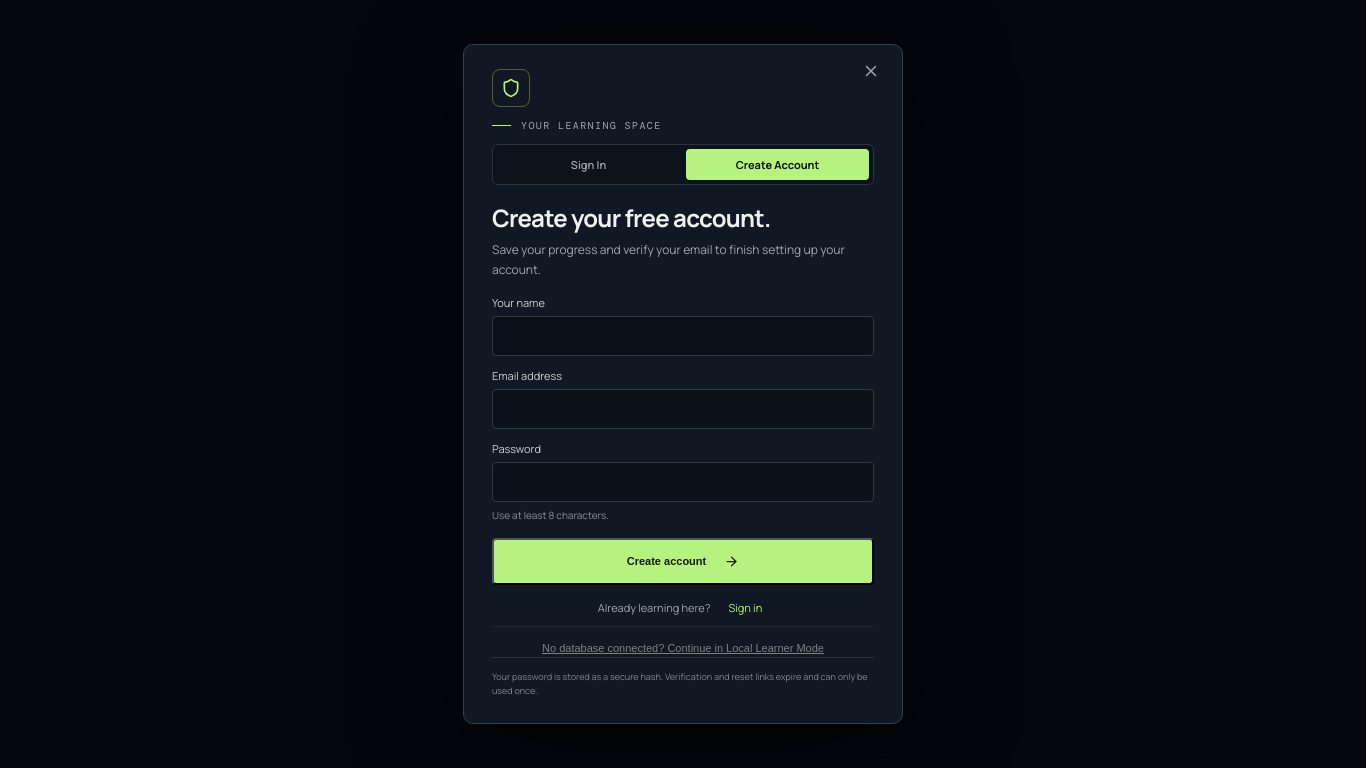
Scenario: sign-up and recovery dialog › asks a new learner to verify their email and supports resending the link
The image size is (1366, 768).
Type "Learner One" into the field labelled "Your name" at point(683, 336), box 492,316 -> 874,356
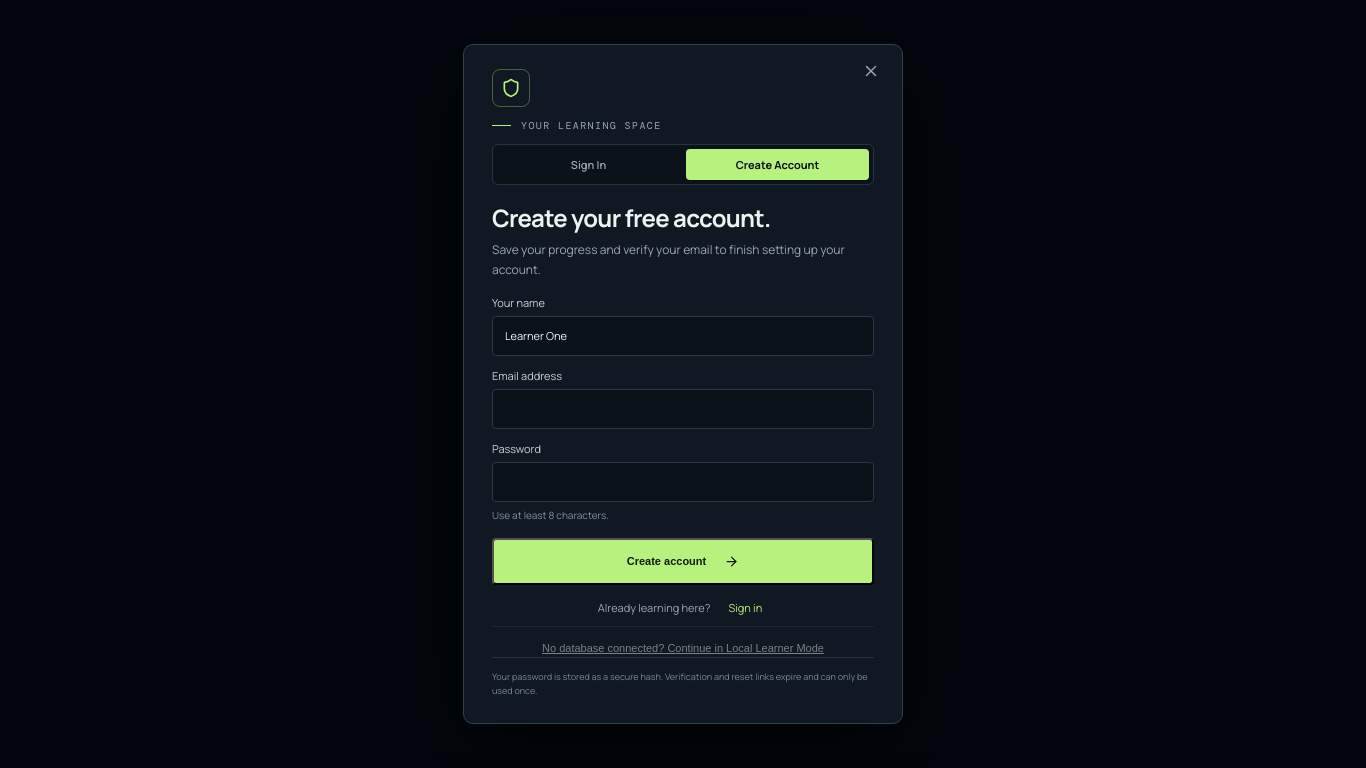
Type "learner@example.com" into the field labelled "Email address" at point(683, 409), box 492,389 -> 874,429
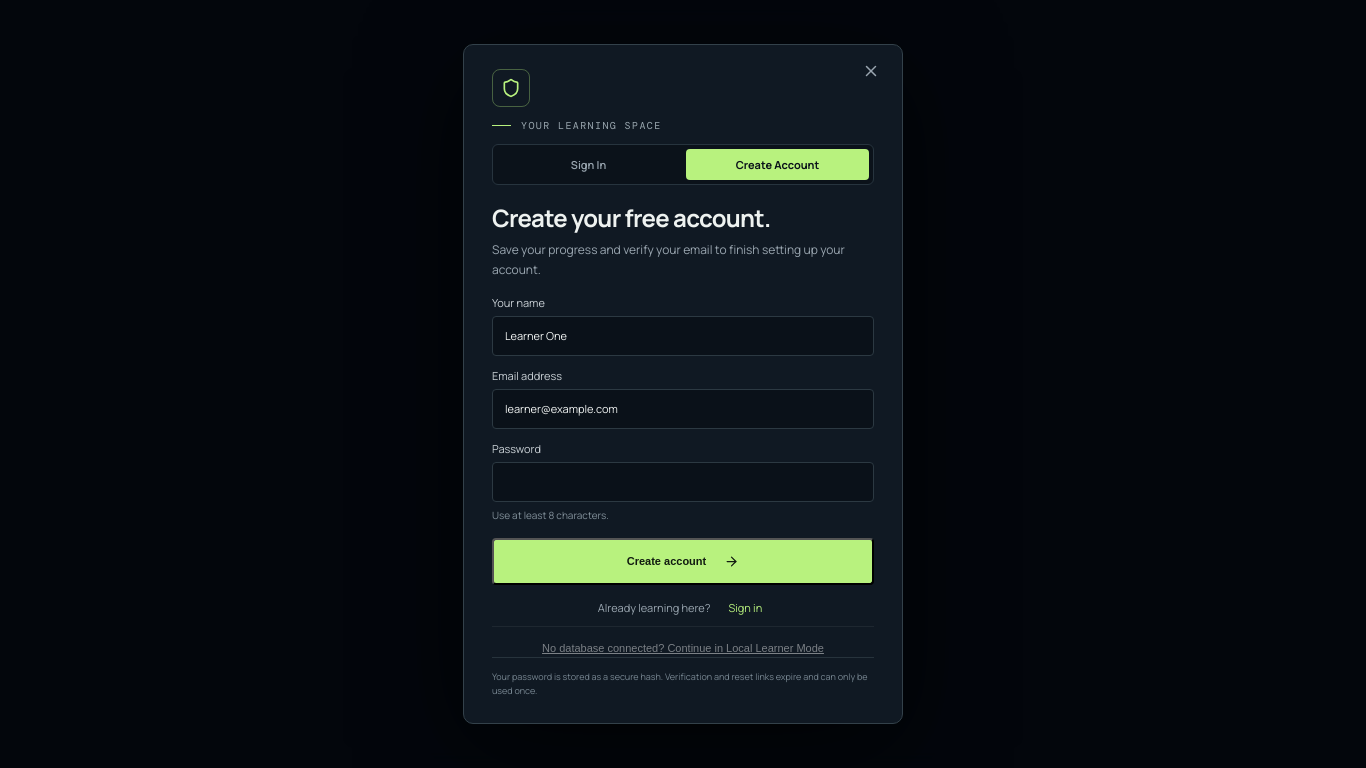
Type "a-long-password-for-registration" into the password field labelled "Password Use at least 8 characters." at point(683, 482), box 492,462 -> 874,502
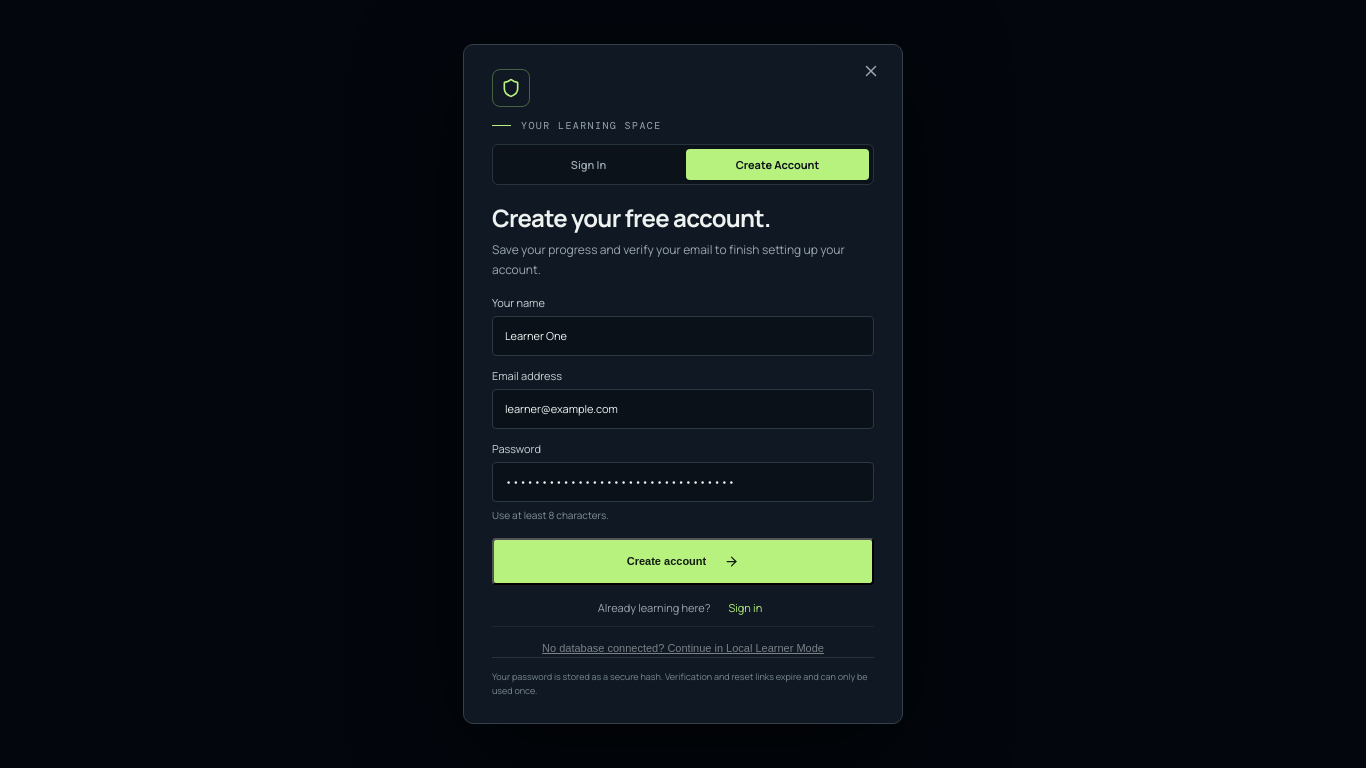
Click the button "Create account" at point(683, 561), box 492,538 -> 874,585
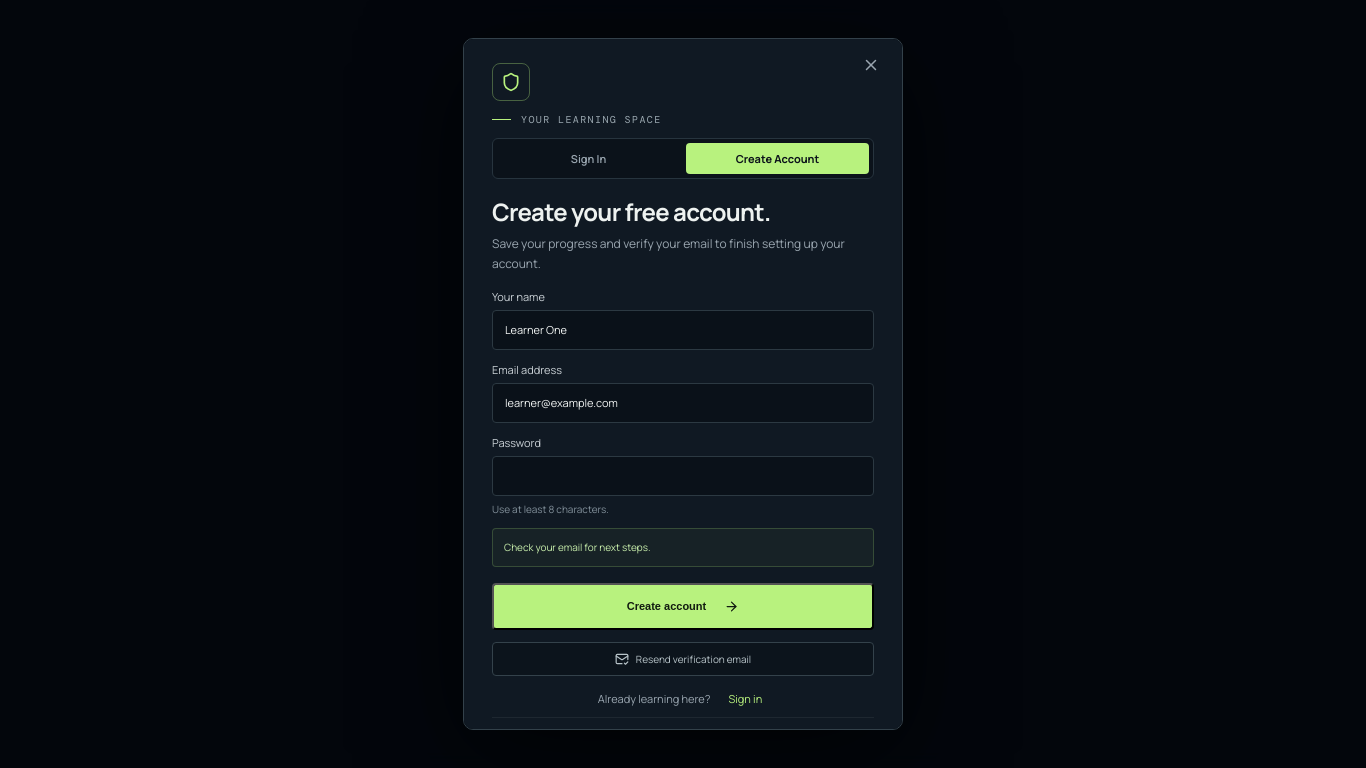
expect the message reads "Check your email for next steps.": met, box 504,540 -> 650,554
Click the button "Resend verification email" at point(683, 659), box 492,642 -> 874,676
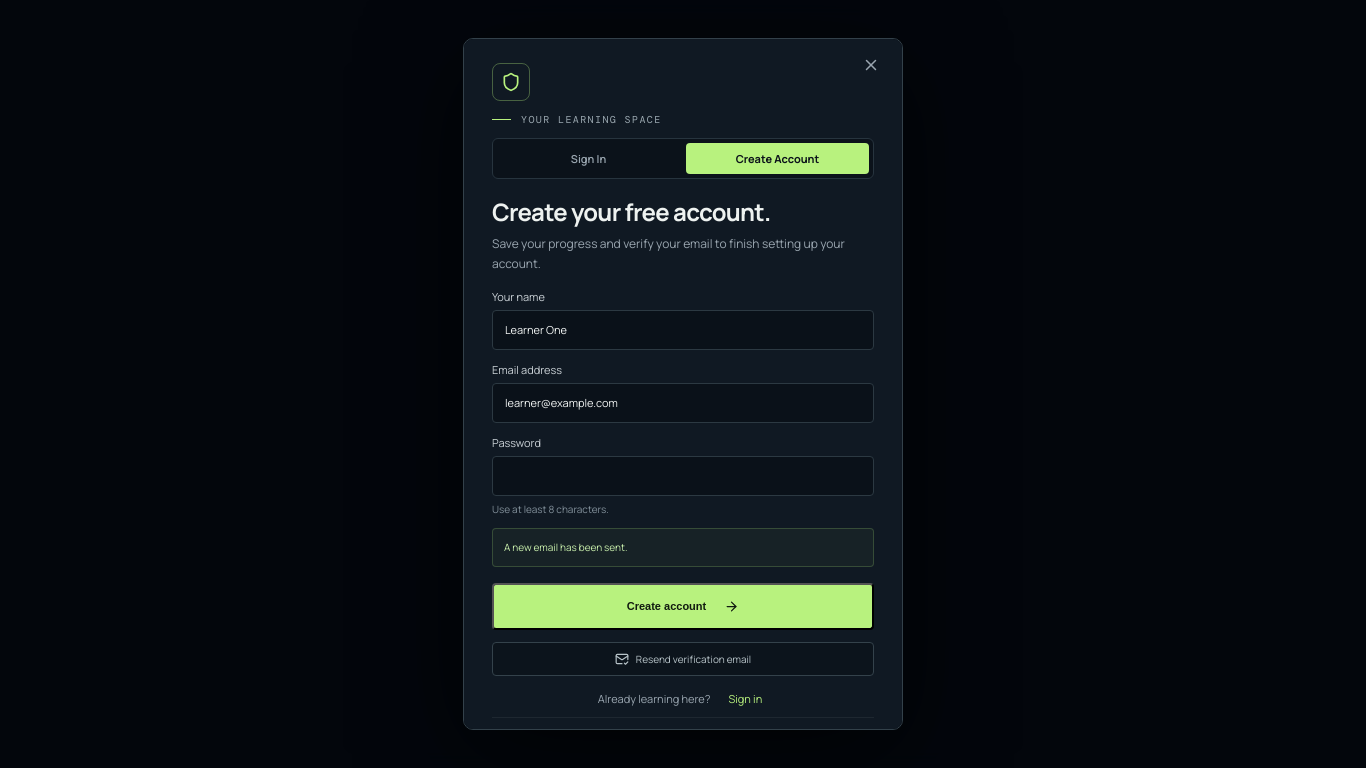
expect the message reads "A new email has been sent.": met, box 504,540 -> 628,554
